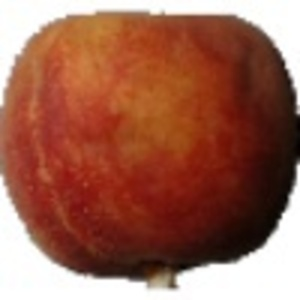pêssego: (1, 1, 300, 291)
